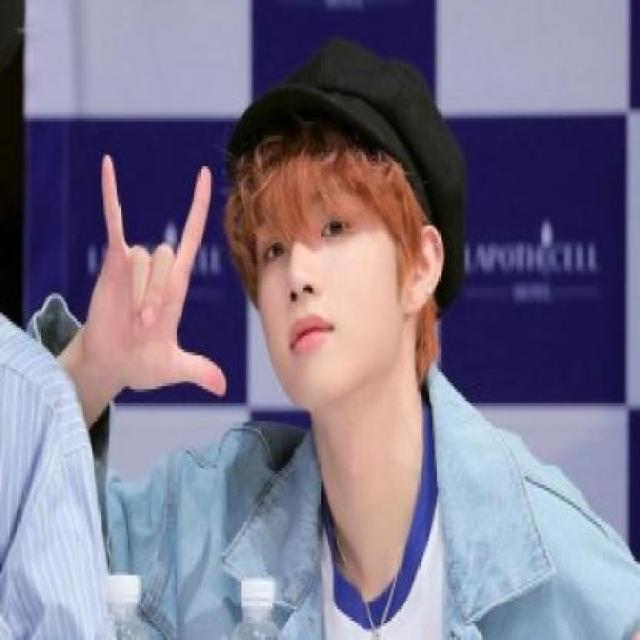hat: (226, 36, 468, 316)
